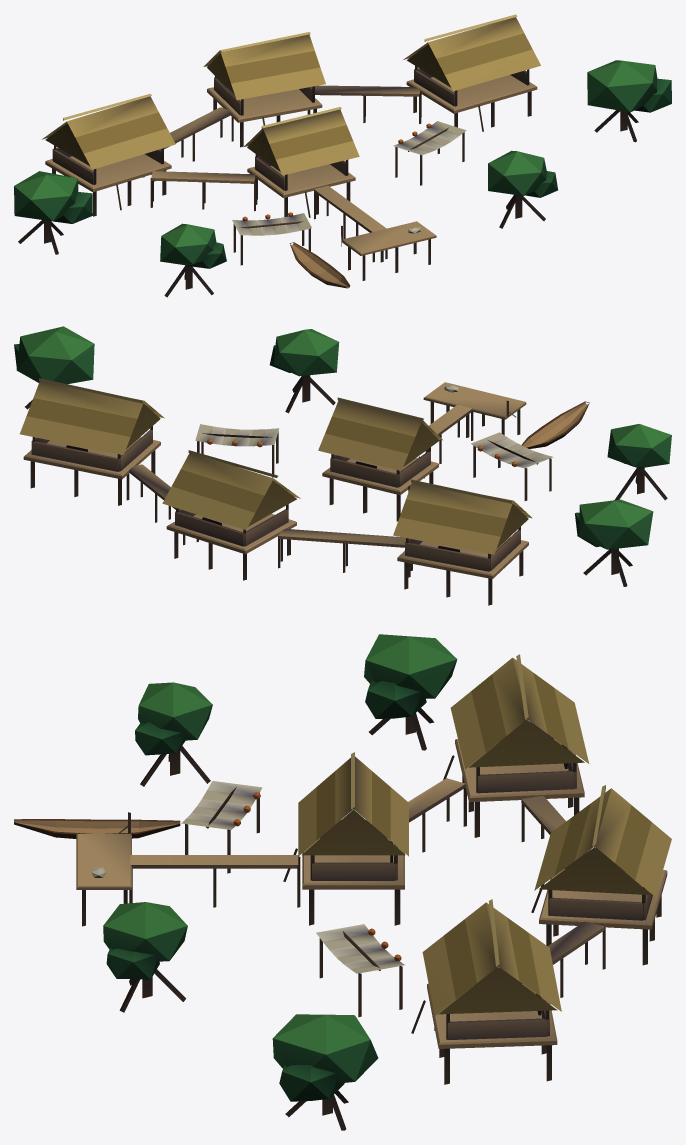
Rendered from palafitos_warao.glb.
The picture shows the model from 3 angles, top to bottom: view 1: azimuth 30°, elevation 25°; view 2: azimuth 150°, elevation 25°; view 3: azimuth 270°, elevation 25°; orthographic projection. The views are drawn at different scales.
Parts seen in each view (by area): view 1: manglar, casa_3, casa_1, casa_2, casa_4, pasarelas, redes, muelle, curiara_1; view 2: manglar, casa_3, casa_1, casa_2, casa_4, pasarelas, redes, muelle, curiara_1; view 3: manglar, casa_3, casa_1, casa_2, casa_4, pasarelas, redes, muelle, curiara_1.
Boxes of the visible parts, x1,y1,x2,y2 form: manglar: (14,60,671,297); casa_3: (403,14,540,131); casa_1: (42,93,175,216); casa_2: (203,32,325,147); casa_4: (244,107,359,217); pasarelas: (142,85,421,262); redes: (232,121,466,265); muelle: (341,221,436,280); curiara_1: (289,235,350,288); manglar: (14,326,671,586); casa_3: (20,378,164,505); casa_1: (393,479,532,605); casa_2: (162,450,300,580); casa_4: (318,397,442,521); pasarelas: (126,405,473,577); redes: (195,424,553,500); muelle: (423,382,526,437); curiara_1: (509,401,589,448); manglar: (103,634,457,1130); casa_3: (411,899,561,1084); casa_1: (443,654,589,837); casa_2: (531,785,671,965); casa_4: (283,752,408,925); pasarelas: (129,778,605,997); redes: (181,781,404,1017); muelle: (76,812,131,926); curiara_1: (14,819,180,838).
Size of the model in its own units: 73.97 by 9.81 by 47.47.
